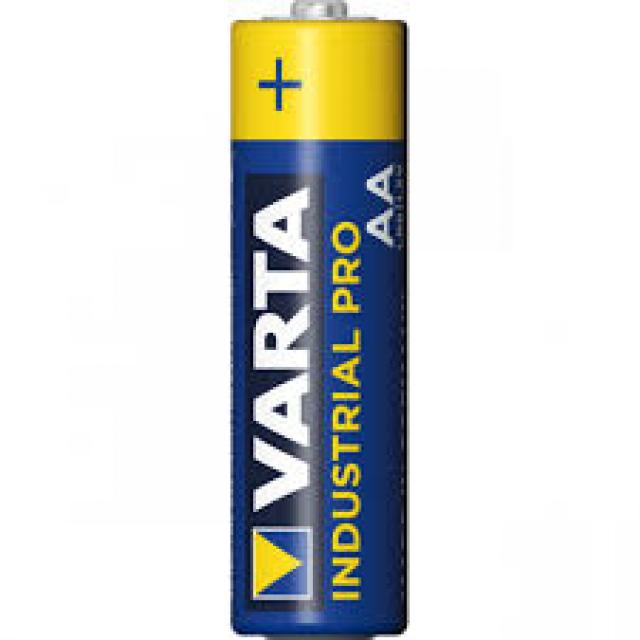non-organic waste: (232, 0, 405, 640)
